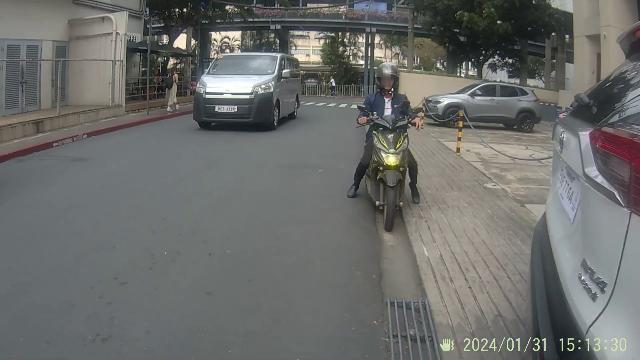car: (516, 32, 640, 356)
